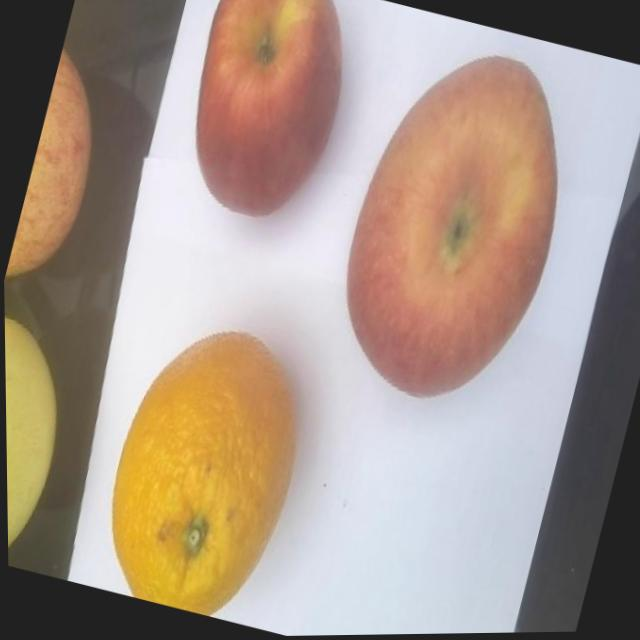Apple: (312, 29, 596, 423), (163, 0, 368, 233), (1, 45, 120, 292)
Orange: (82, 307, 325, 629)
